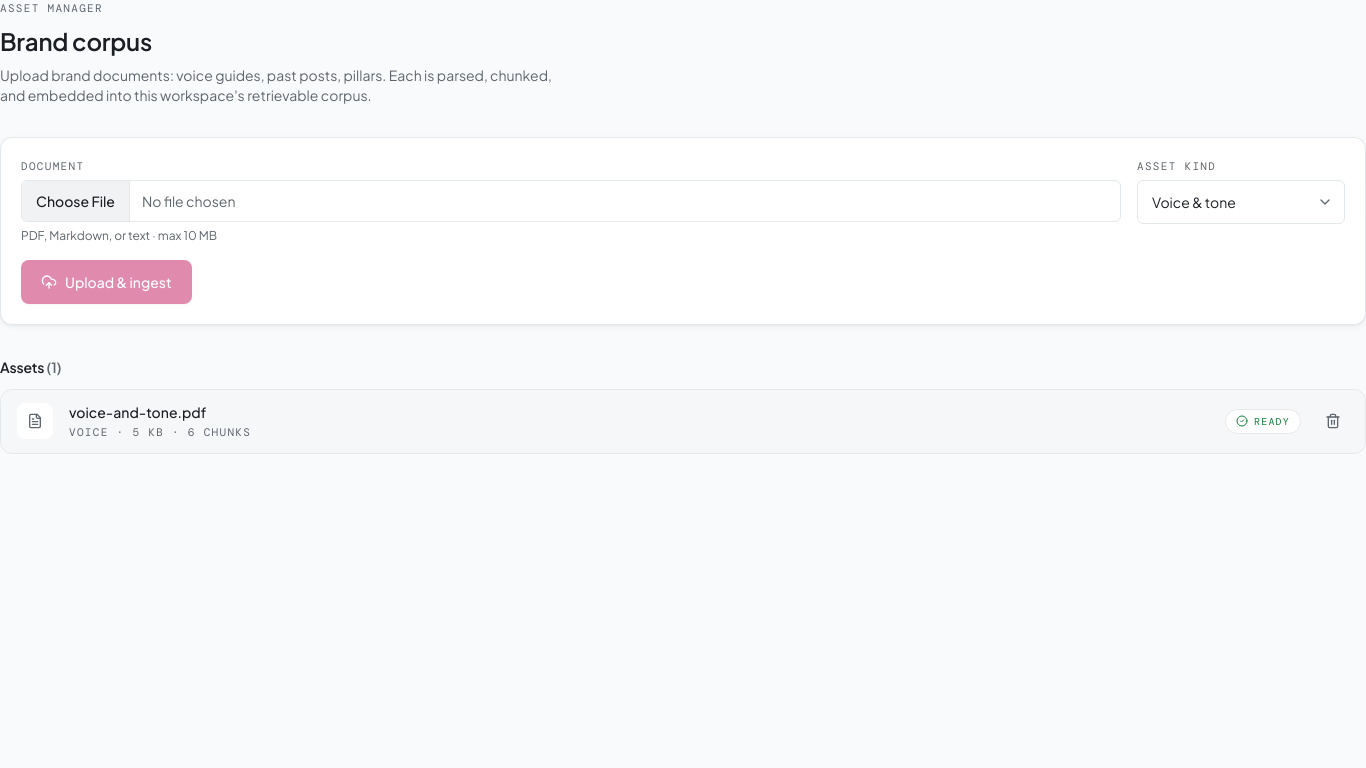
Test: AssetsPage delete › asks before deleting, and deletes only on confirm
The width and height of the screenshot is (1366, 768).
Click the button named "Delete voice-and-tone.pdf" at (1333, 421), box [1317, 405, 1349, 437]
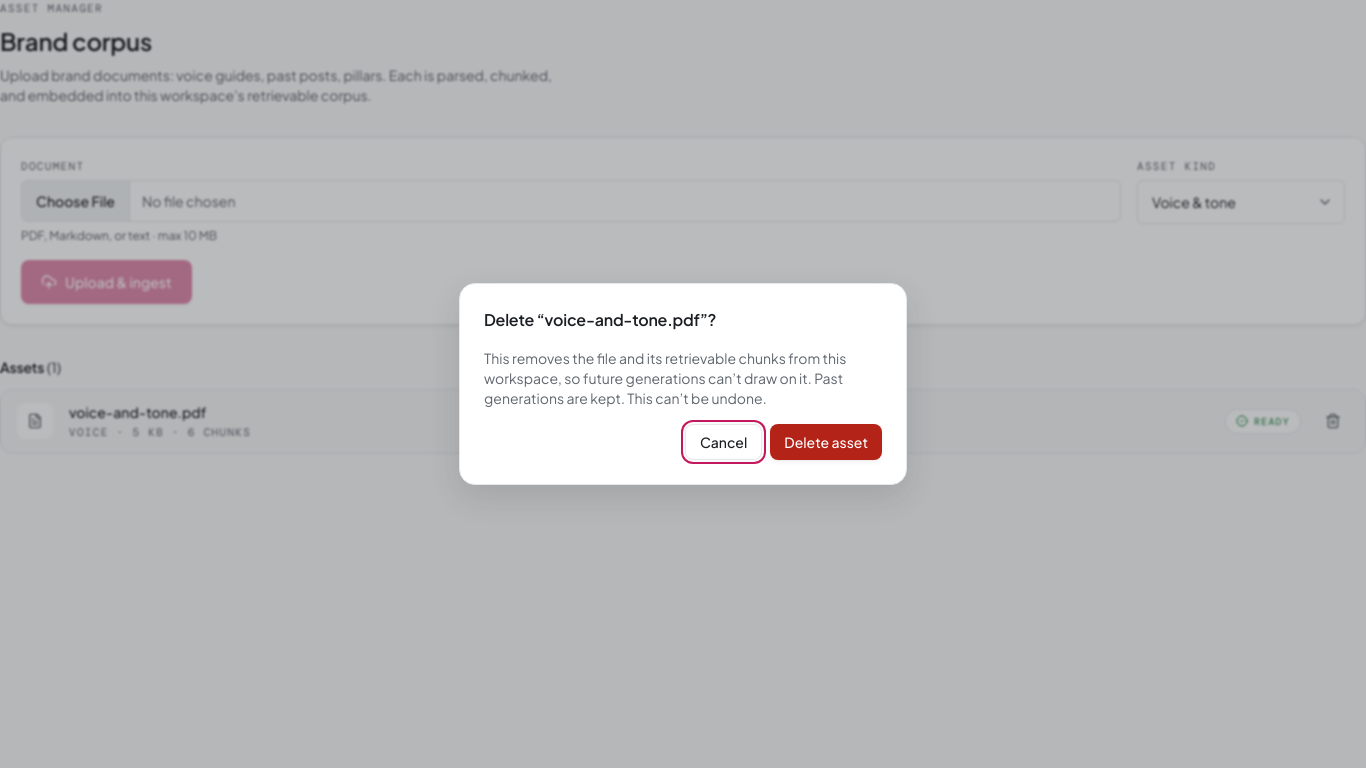
Check: the dialog "Delete “voice-and-tone.pdf”?" is shown, box [459, 283, 907, 485]
Click the button "Delete asset" at (826, 442), box [770, 424, 882, 460]
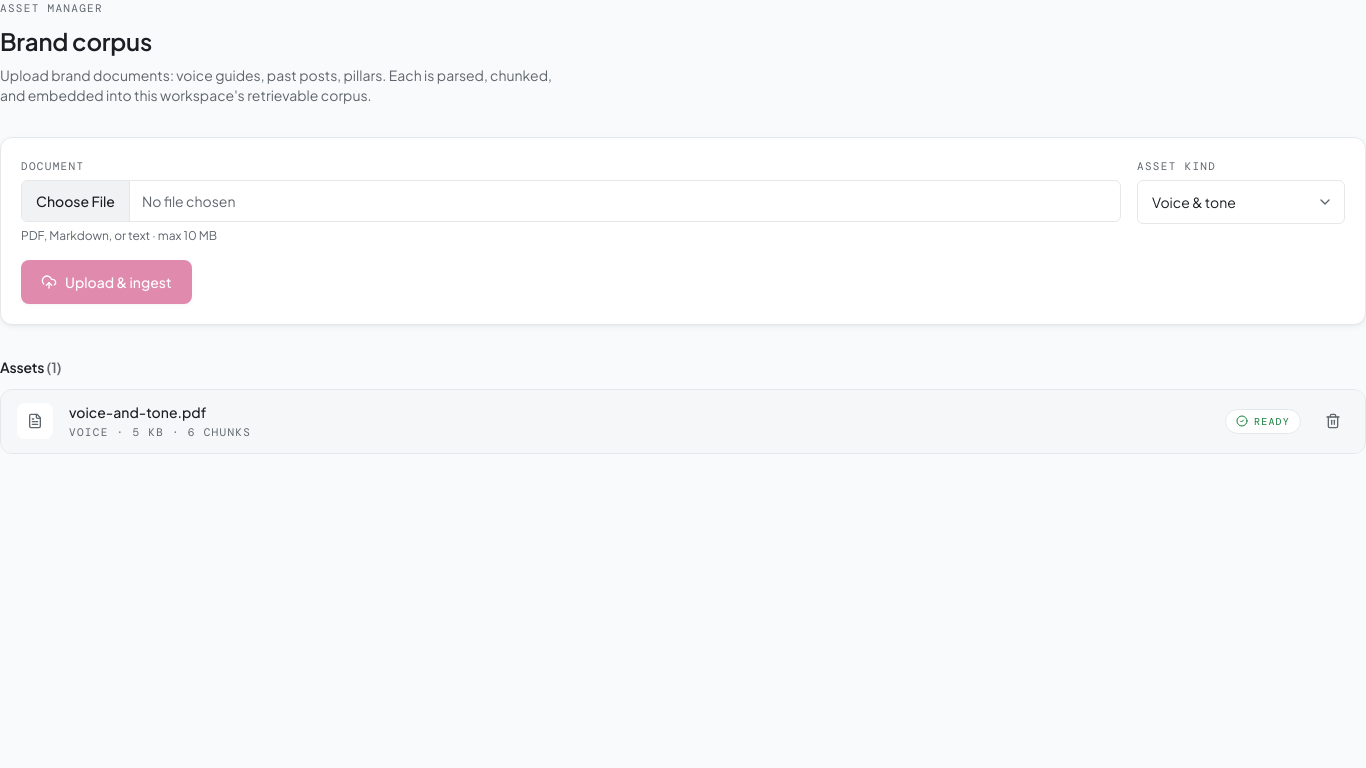
Check: the dialog is gone
